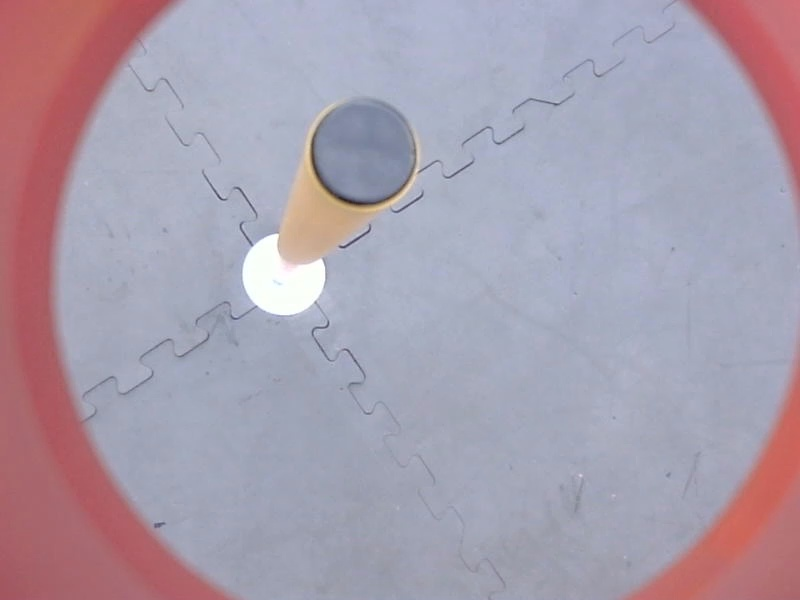tip: (299, 90, 428, 214)
